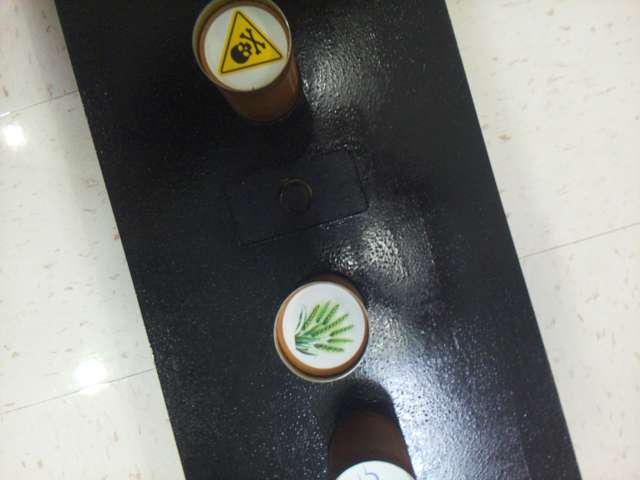toxic_fluid: (203, 6, 289, 91)
water_barrel: (338, 462, 413, 478)
wheat_barrel: (282, 283, 364, 370)
